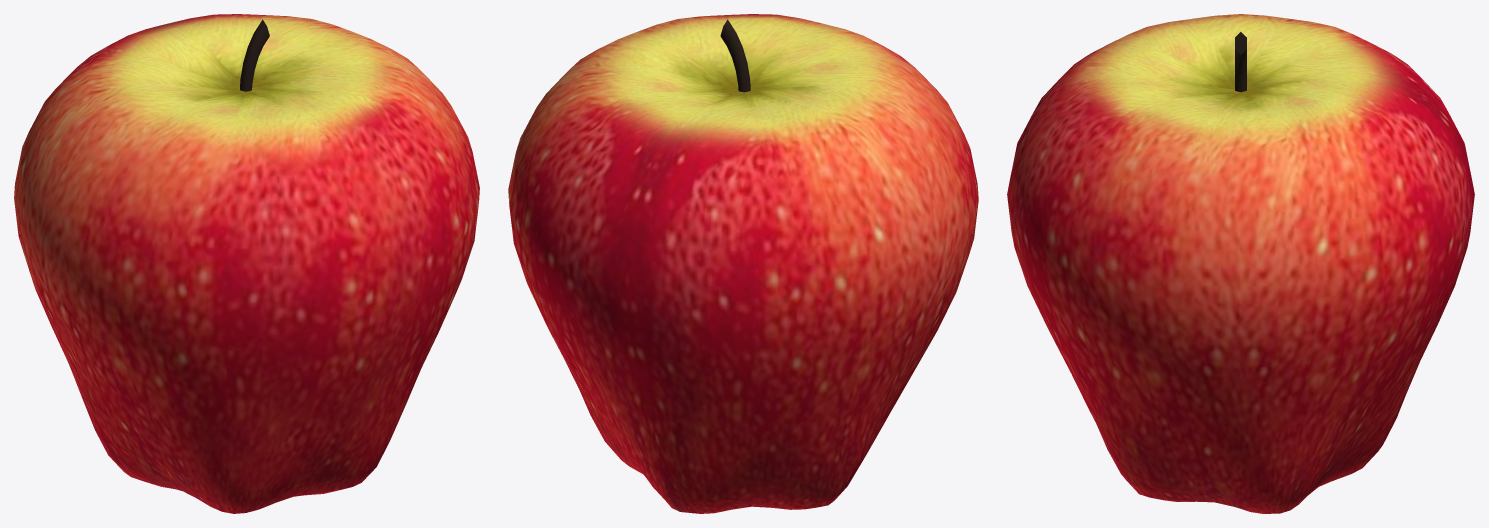
The model's file is apple.FBX.
The picture shows the model from 3 angles, left to right: view 1: azimuth 30°, elevation 25°; view 2: azimuth 150°, elevation 25°; view 3: azimuth 270°, elevation 25°; orthographic projection.
Parts seen in each view (by area): view 1: Sphere001, Cylinder001; view 2: Sphere001, Cylinder001; view 3: Sphere001, Cylinder001.
Part boxes in pixels (x1,y1,x2,y2): Sphere001: [14, 14, 479, 513]; Cylinder001: [240, 19, 269, 91]; Sphere001: [508, 14, 978, 513]; Cylinder001: [720, 19, 750, 92]; Sphere001: [1007, 14, 1474, 513]; Cylinder001: [1235, 32, 1246, 92].
Bounding box in the file's own units: 47.58 × 50.49 × 47.61.
2 materials, 1 textured.
